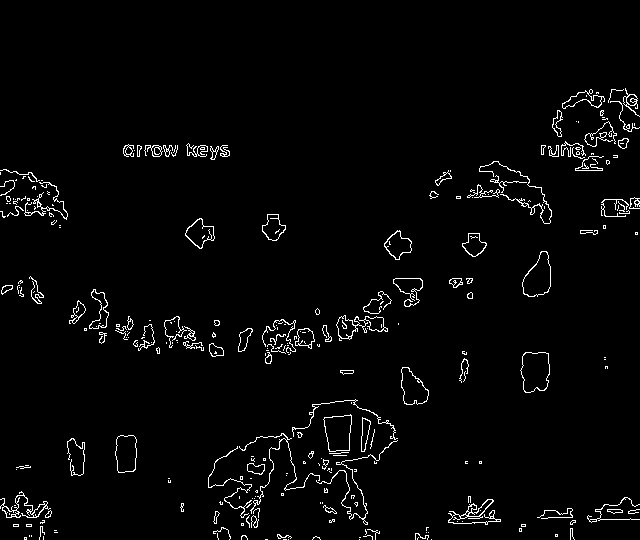down: (257, 208, 296, 247), (457, 228, 493, 264)
left: (179, 213, 224, 257), (376, 226, 415, 267)
